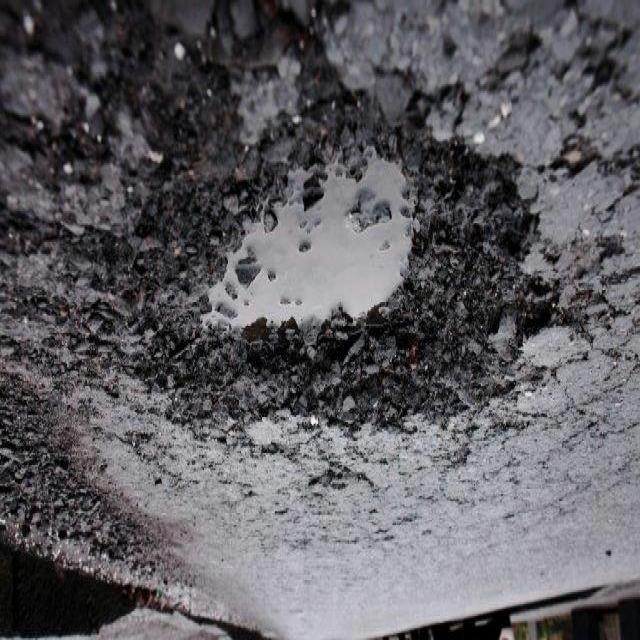jalan retak: (0, 76, 150, 408), (1, 0, 344, 112), (500, 286, 640, 443), (515, 196, 640, 348), (544, 0, 640, 181), (402, 423, 518, 571), (279, 427, 415, 545), (525, 111, 640, 239), (474, 356, 562, 522), (544, 414, 640, 544), (474, 1, 596, 102), (194, 422, 282, 541), (119, 418, 193, 506)
lubang: (155, 87, 533, 429)
